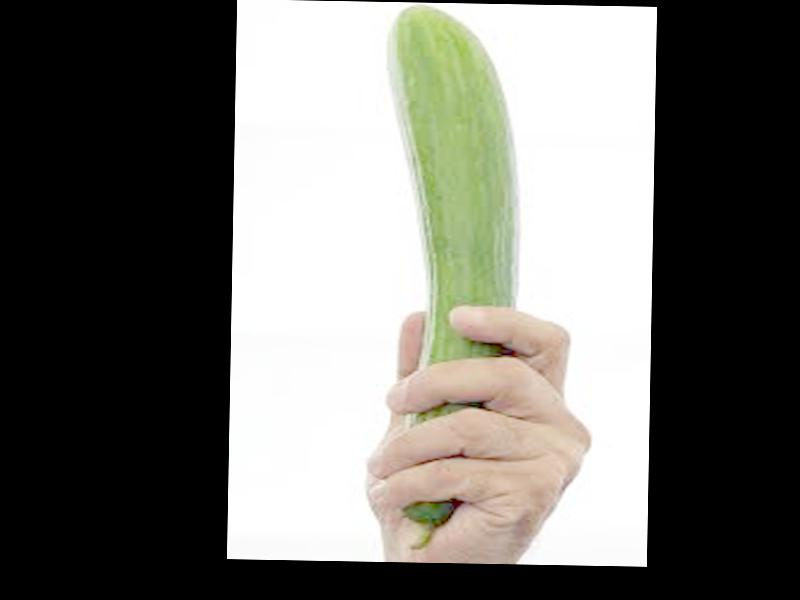Cucumber: (375, 1, 521, 549)
